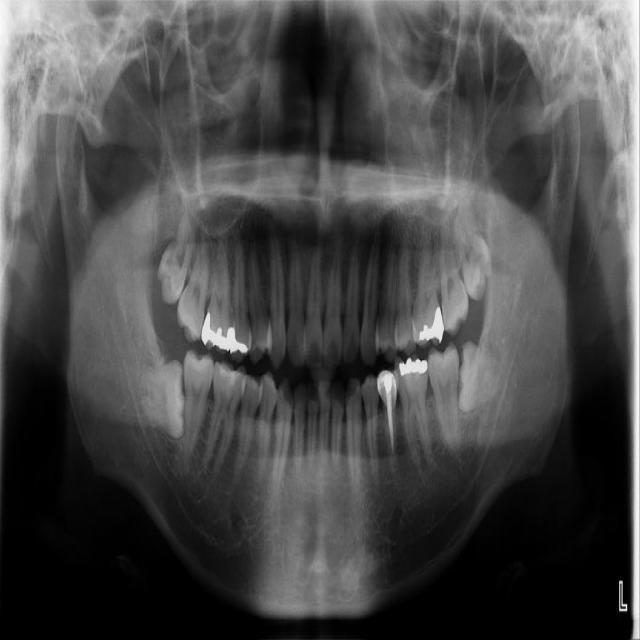Filling: (203, 309, 234, 353), (416, 304, 443, 344), (396, 354, 429, 376), (230, 328, 248, 356)
Root Canal Treatment: (388, 402, 394, 449)
impacted tooth: (136, 360, 185, 440), (457, 342, 508, 409)
